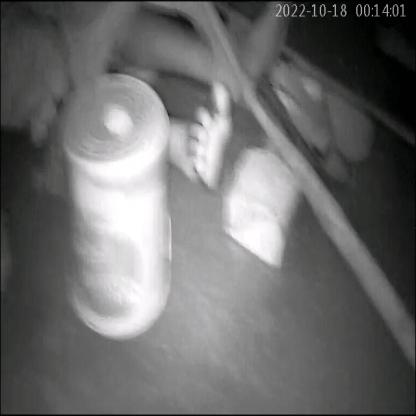leg: (160, 72, 244, 196)
